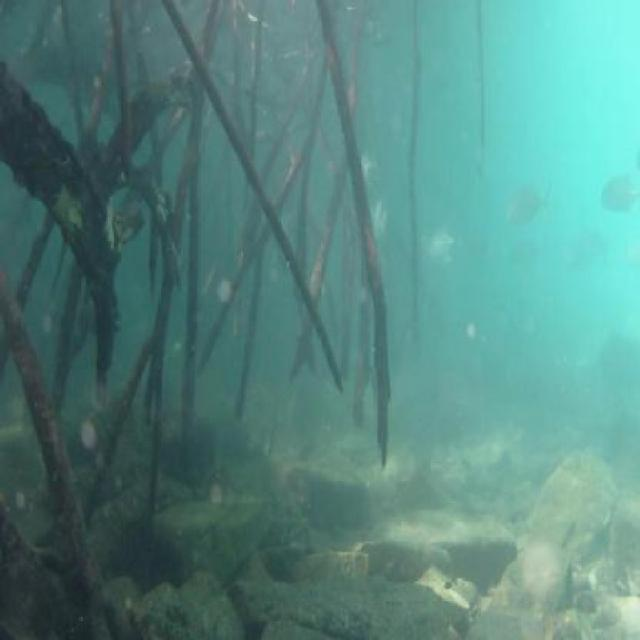Caranx_sexfasciatus_juvenile: (506, 181, 565, 236), (425, 224, 477, 278), (569, 229, 616, 280), (603, 162, 640, 218)
